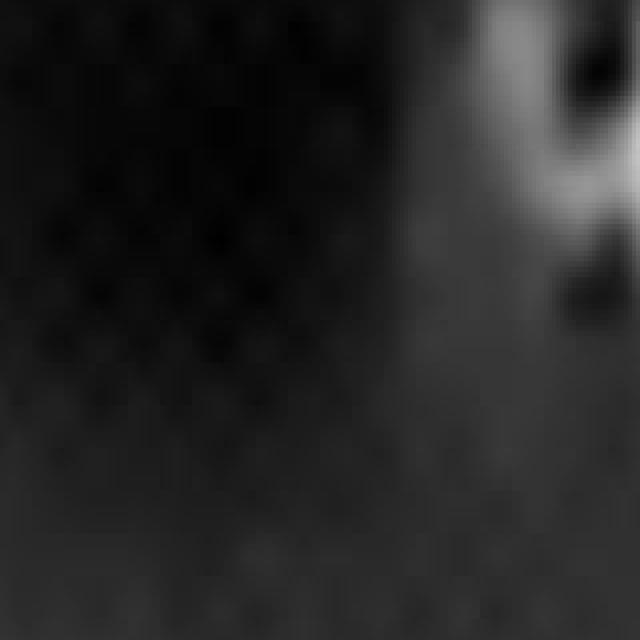person: (445, 1, 621, 342), (593, 1, 640, 406)
